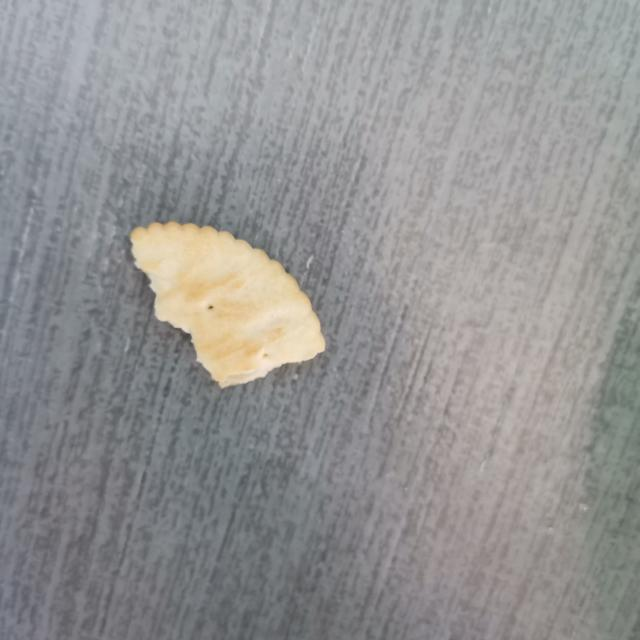Broken: (129, 219, 327, 389)
